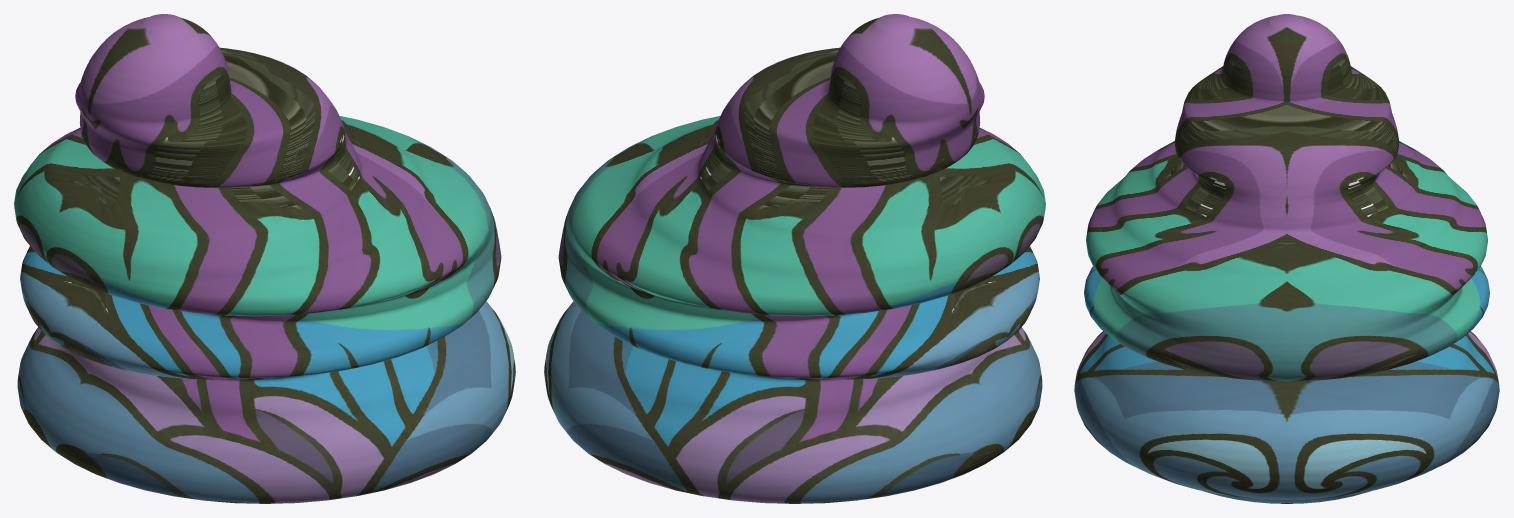
File: hook_fern.glb
3 renders of one model, left to right at view 1: azimuth 30°, elevation 25°; view 2: azimuth 150°, elevation 25°; view 3: azimuth 270°, elevation 25°, orthographic. The views are drawn at different scales.
Visible parts, largest first — view 1: hook_fern; view 2: hook_fern; view 3: hook_fern.
Part boxes in pixels (x1,y1,x2,y2): hook_fern: (14,14,515,503); hook_fern: (544,14,1045,503); hook_fern: (1074,14,1499,503).
Bounding box in the file's own units: 1 × 1.01 × 0.9836.
1 material, 1 textured.
